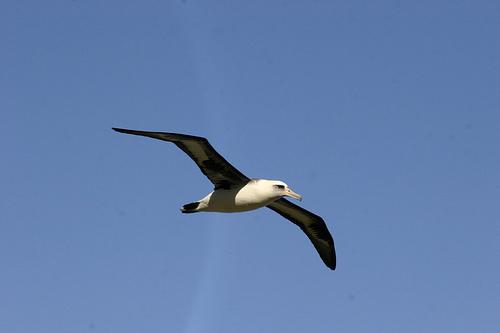002.Laysan_Albatross: (108, 126, 338, 272)
